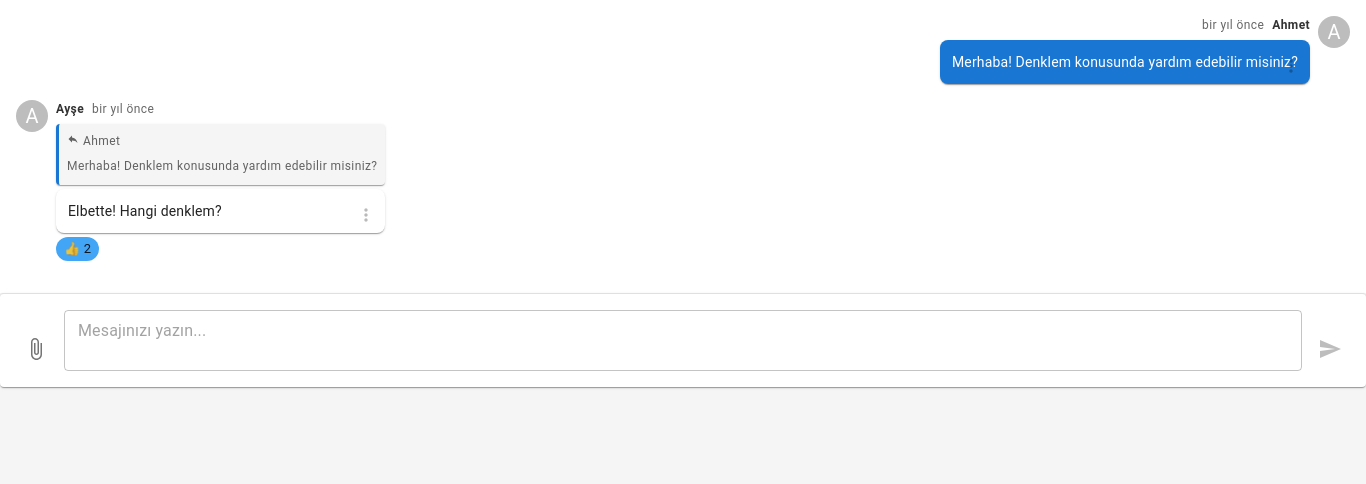
Scenario: ChatInterface Component › Message Replies › cancels reply when cancel button is clicked
Click the 1st button named "more": (1291, 66) [1276,44,1306,88]
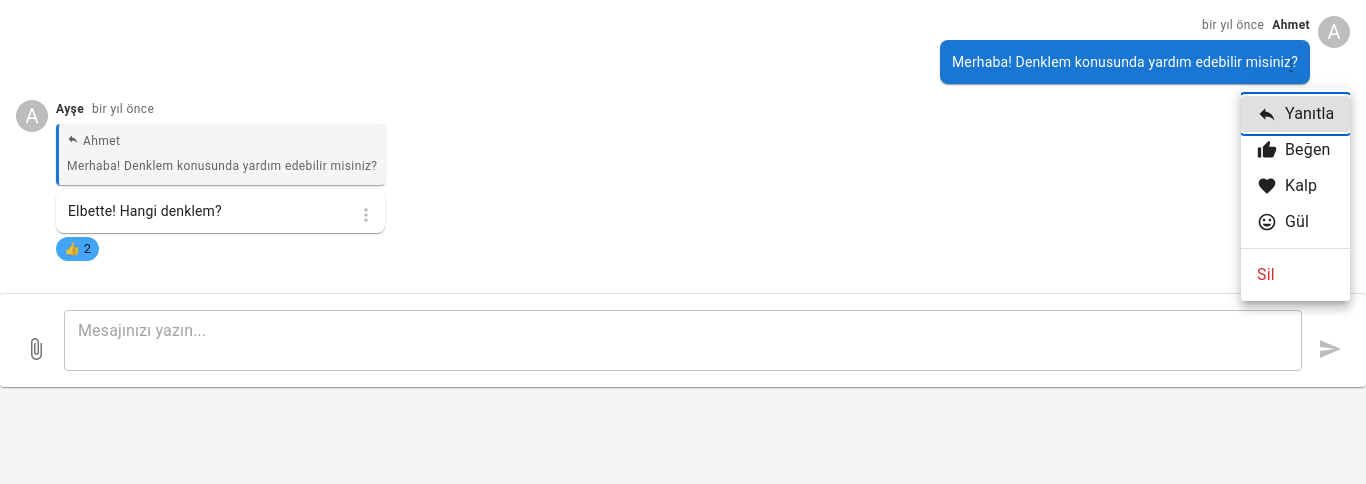
Click the menu item "Yanıtla": (1296, 114) [1241,96,1350,132]
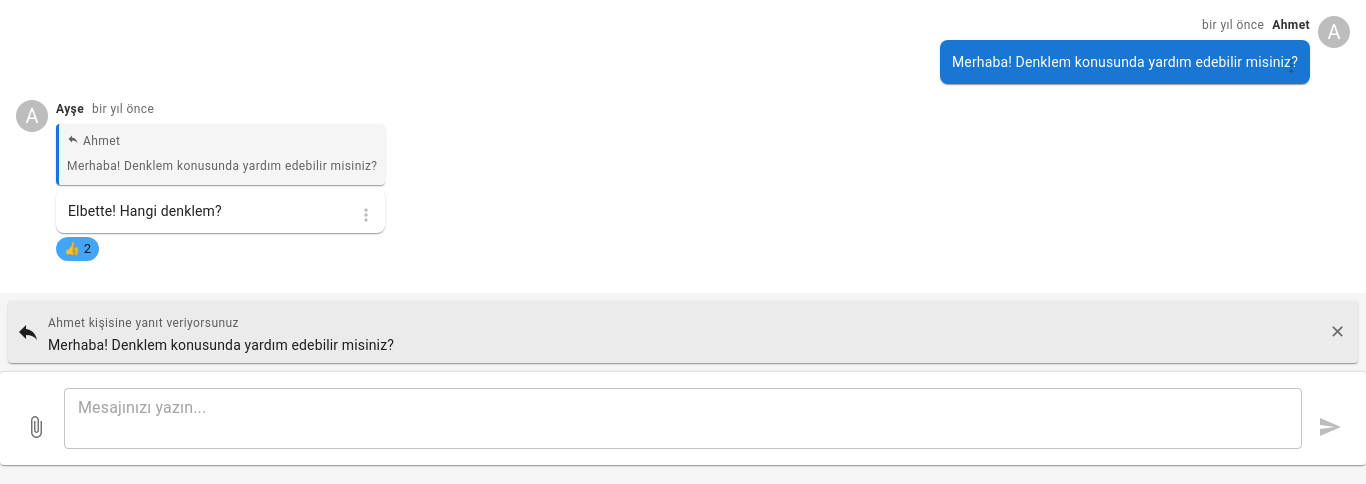
expect the text "Ahmet kişisine yanıt veriyorsunuz" is shown: met, box [48,316,239,330]
Click the button "✕": (1337, 332) [1325,310,1350,354]
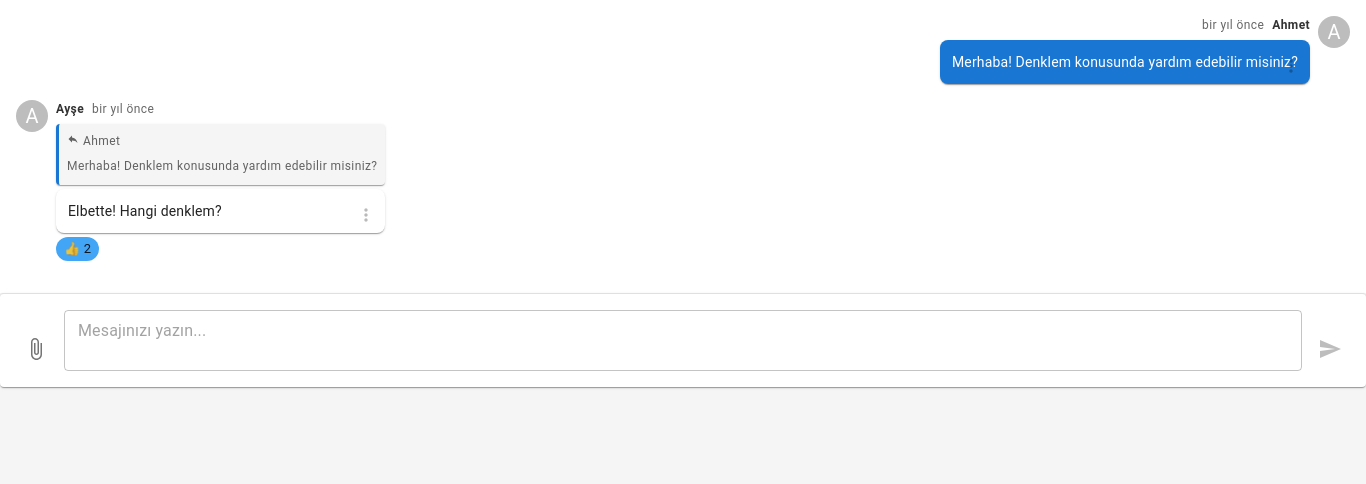
expect the text "kişisine yanıt veriyorsunuz" is gone: met
